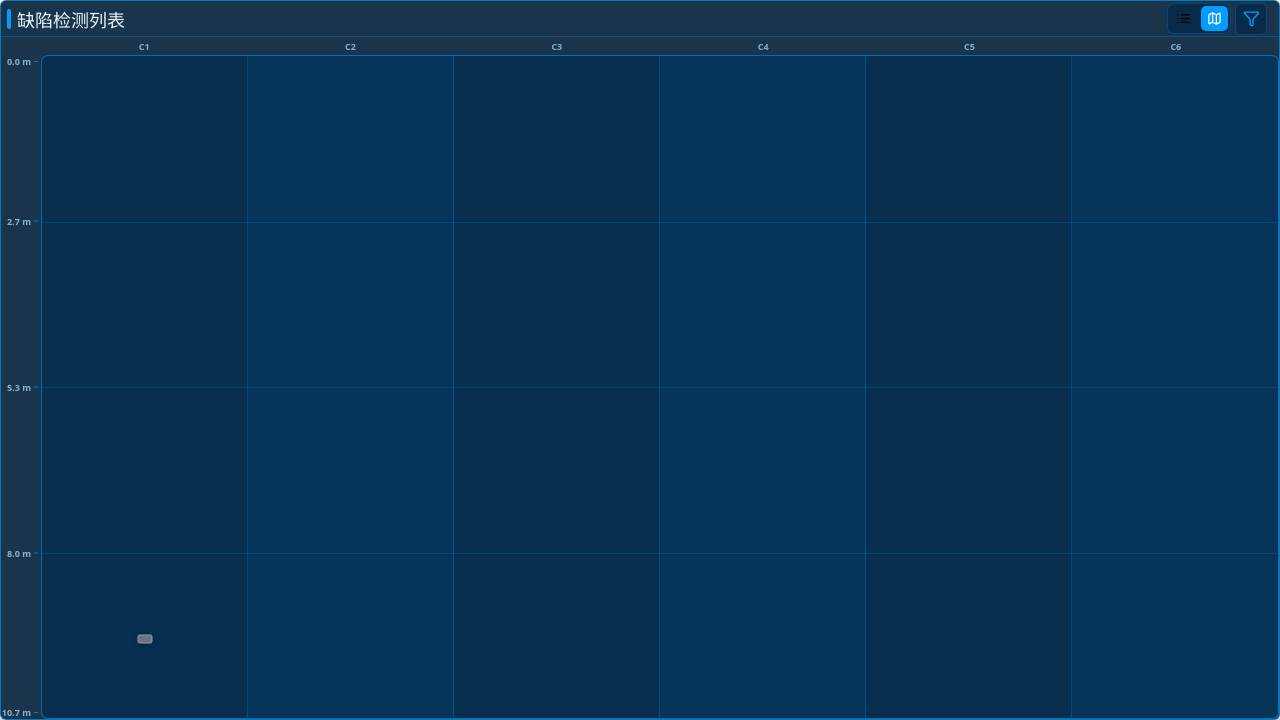
Scenario: DefectDetectionList algorithm defects › uses the selected production frame ROI in the hover preview
Click the button titled "列表" at (1184, 18), box [1170,6,1197,31]
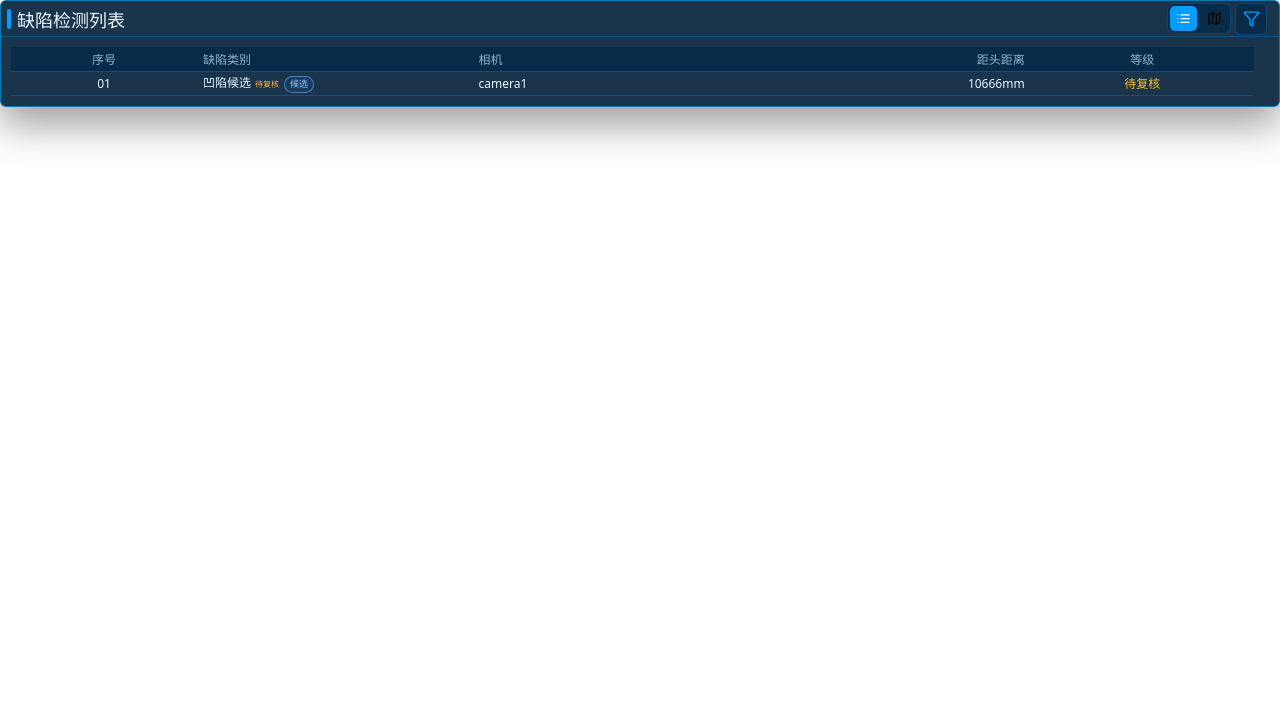
Hover over the row named "凹陷候选，camera1" at (632, 83), box [11,71,1254,95]
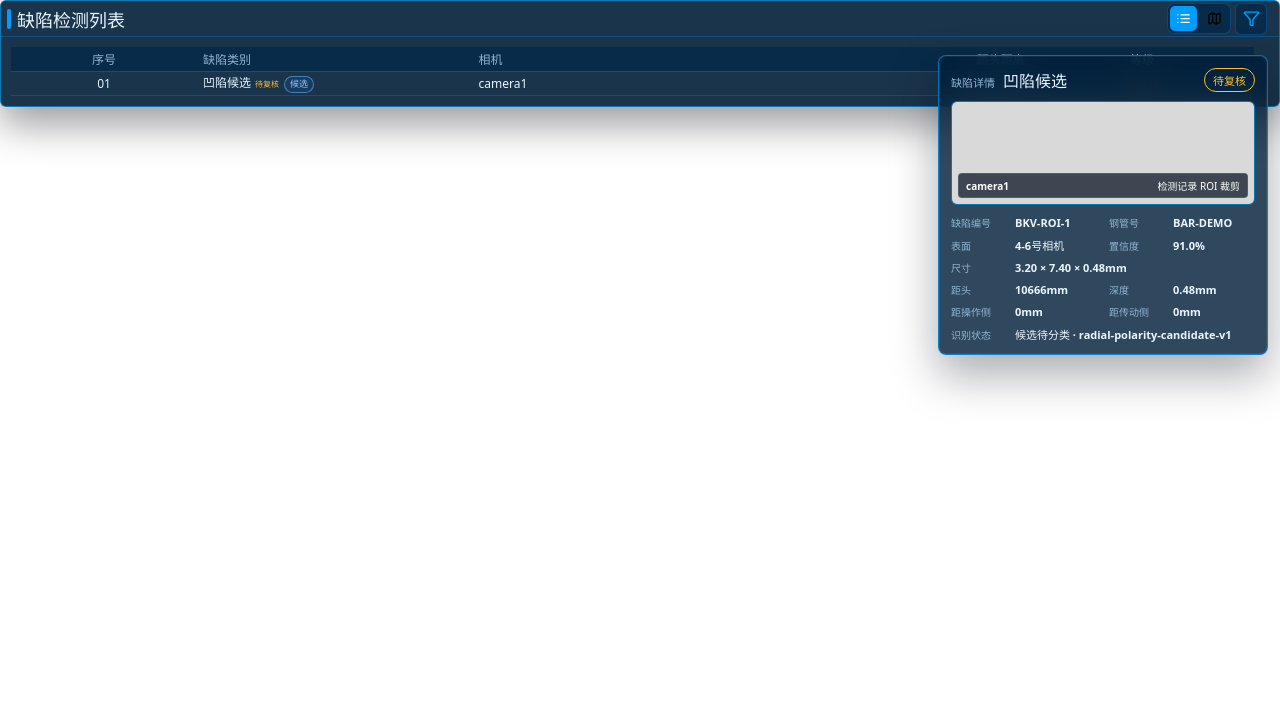
expect the tooltip shows "检测记录 ROI 裁剪": met, box [1157,179,1240,193]
